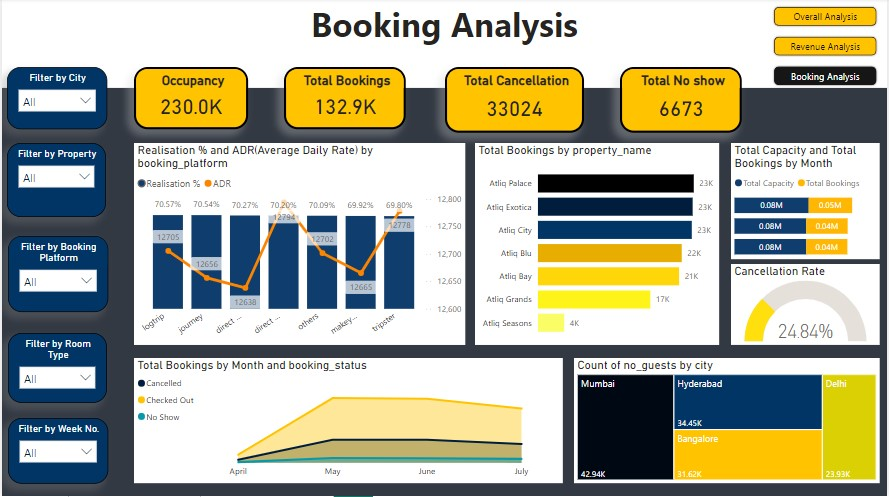

What the dashboard file says about the page in this screenshot:
{"tool":"powerbi","page":{"name":"Booking Analysis","canvas":[1280,720],"ordinal":2},"visuals":[{"type":"textbox","box":[0,0,1279.5,130.1],"z":0},{"type":"card","title":"Total Bookings","fields":{"Values":["BaseMeasures.Total Bookings"]},"box":[407.7,99.8,176.4,89.6],"z":1000},{"type":"card","title":"Total Cancellation","fields":{"Values":["BaseMeasures.Total Cancelled Booking"]},"box":[640.5,99.8,201,95.4],"z":2000},{"type":"slicer","title":"Filter by Booking Platform","fields":{"Values":["fact_bookings.booking_platform"]},"box":[8.6,344.6,144.6,110.2],"z":2000,"group":"g1"},{"type":"card","title":"Occupancy","fields":{"Values":["BaseMeasures.Total Capacity"]},"box":[190.8,99.8,164.8,89.6],"z":3000},{"type":"card","title":"Total No show","fields":{"Values":["BaseMeasures.Total no show bookings"]},"box":[893.5,99.8,176.4,95.4],"z":4000},{"type":"slicer","title":"Filter by Room Type","fields":{"Values":["dim_rooms.room_class"]},"box":[8.6,483.9,143.1,101],"z":4000,"group":"g1"},{"type":"group","id":"g1","title":"Group 1","box":[7.2,99.8,146,602.9],"z":5000},{"type":"lineClusteredColumnComboChart","title":"Realisation % and ADR(Average Daily Rate) by booking_platform","fields":{"Y":["BaseMeasures.Realisation %"],"Category":["fact_bookings.booking_platform"],"Y2":["BaseMeasures.ADR"]},"box":[190.8,209.6,478.6,292],"z":6000},{"type":"slicer","title":"Filter by Week No.","fields":{"Values":["dim_date.week no"]},"box":[8.6,607.8,144.6,94.9],"z":6000,"group":"g1"},{"type":"barChart","fields":{"Y":["BaseMeasures.Total Capacity","BaseMeasures.Total Bookings"],"Category":["dim_date.date.Variation.Date Hierarchy.Month"]},"box":[1054,209.6,215.4,167.7],"z":7000},{"type":"slicer","title":"Filter by City","fields":{"Values":["dim_hotels.city"]},"box":[7.2,99.8,144.6,90.3],"z":8000,"group":"g1"},{"type":"barChart","fields":{"Category":["dim_hotels.property_name"],"Y":["BaseMeasures.Total Bookings"]},"box":[683.9,209.6,352.8,292],"z":8000},{"type":"gauge","fields":{"Y":["BaseMeasures.Cancellation Rate"]},"box":[1054,384.6,215.4,117.1],"z":9000},{"type":"slicer","title":"Filter by Property ","fields":{"Values":["dim_hotels.property_name"]},"box":[7.2,210,143.1,107.1],"z":10000,"group":"g1"},{"type":"areaChart","fields":{"Y":["BaseMeasures.Total Bookings"],"Series":["fact_bookings.booking_status"],"Category":["fact_bookings.booking_date.Variation.Date Hierarchy.Month"]},"box":[191.5,520.7,619.8,181.4],"z":10000},{"type":"treemap","fields":{"Group":["dim_hotels.city"],"Values":["CountNonNull(fact_bookings.no_guests)"]},"box":[826.5,520.7,441.8,181.4],"z":11000},{"type":"pageNavigator","box":[1113.3,10.1,154.7,120],"z":12000}]}

Visuals, with their boxes in screenshot pixels (x1, y1, x2, y2), scaled from the page's 1280x720 canvas onto the 889x497 screenshot:
textbox: <bbox>0, 0, 888, 90</bbox>
"Total Bookings" card: <bbox>283, 69, 406, 131</bbox>
"Total Cancellation" card: <bbox>445, 69, 584, 135</bbox>
"Filter by Booking Platform" slicer: <bbox>6, 238, 106, 314</bbox>
"Occupancy" card: <bbox>133, 69, 247, 131</bbox>
"Total No show" card: <bbox>621, 69, 743, 135</bbox>
"Filter by Room Type" slicer: <bbox>6, 334, 105, 404</bbox>
"Group 1" group: <bbox>5, 69, 106, 485</bbox>
"Realisation % and ADR(Average Daily Rate) by booking_platform" lineClusteredColumnComboChart: <bbox>133, 145, 465, 346</bbox>
"Filter by Week No." slicer: <bbox>6, 420, 106, 485</bbox>
barChart - BaseMeasures.Total Capacity x BaseMeasures.Total Bookings: <bbox>732, 145, 882, 260</bbox>
"Filter by City" slicer: <bbox>5, 69, 105, 131</bbox>
barChart - dim_hotels.property_name x BaseMeasures.Total Bookings: <bbox>475, 145, 720, 346</bbox>
gauge - BaseMeasures.Cancellation Rate: <bbox>732, 265, 882, 346</bbox>
"Filter by Property " slicer: <bbox>5, 145, 104, 219</bbox>
areaChart - BaseMeasures.Total Bookings x fact_bookings.booking_status: <bbox>133, 359, 563, 485</bbox>
treemap - dim_hotels.city x CountNonNull(fact_bookings.no_guests): <bbox>574, 359, 881, 485</bbox>
pageNavigator: <bbox>773, 7, 881, 90</bbox>
